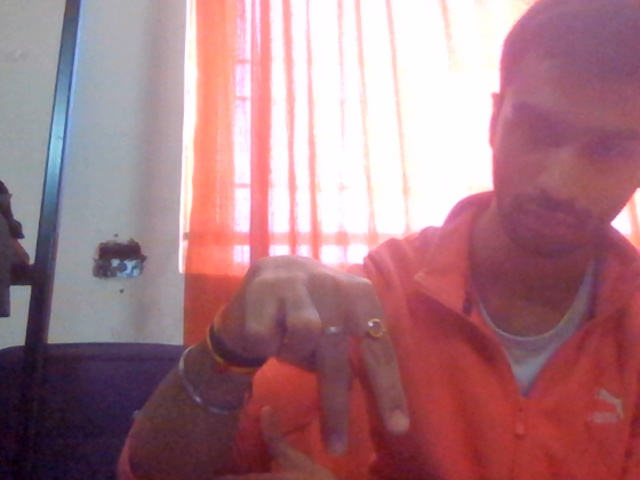P: (197, 221, 439, 480)
